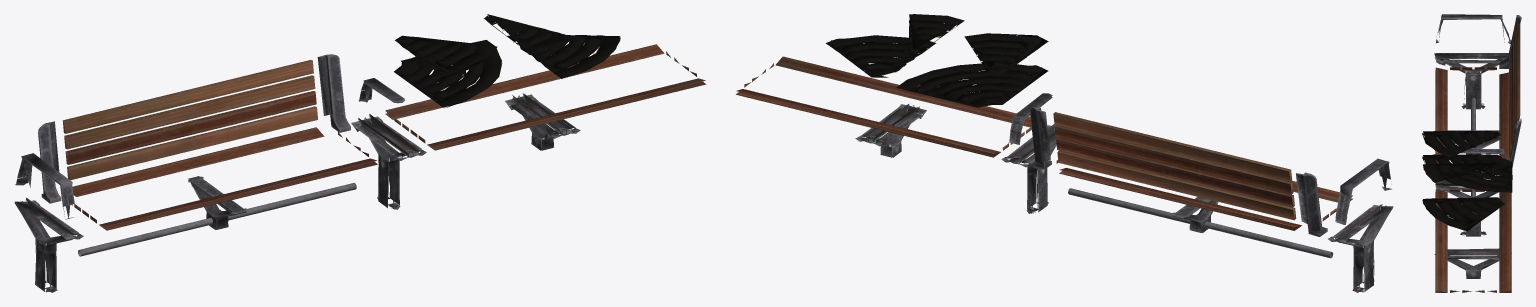
File: seating-low.glb
3 renders of one model, left to right at view 1: azimuth 30°, elevation 25°; view 2: azimuth 150°, elevation 25°; view 3: azimuth 270°, elevation 25°, orthographic. The views are drawn at different scales.
Visible parts, largest first — view 1: seat_back baked, seat baked, seat_bench baked, connector_90 baked, legs_double baked, legs_single baked, connector_45 baked, connector_60 baked, crossbar baked, back_support_l baked, suspended_support_02 baked, connector_30 baked (+4 smaller); view 2: seat_back baked, seat_bench baked, connector_90 baked, connector_60 baked, seat baked, legs_single baked, connector_45 baked, crossbar baked, legs_double baked, suspended_support_02 baked, connector_30 baked, back_support_r baked (+4 smaller); view 3: seat_bench baked, connector_90 baked, seat baked, connector_60 baked, legs_single baked, connector_45 baked, seat_back baked, suspended_support_02 baked, connector_30 baked, legs_double baked, arm_rest_01 baked, back_support_r baked (+4 smaller).
Part boxes in pixels (x1,y1,x2,y2): seat_back baked: [62, 60, 317, 180]; seat baked: [71, 127, 377, 230]; seat_bench baked: [385, 44, 706, 150]; connector_90 baked: [394, 40, 502, 107]; legs_double baked: [351, 114, 426, 209]; legs_single baked: [14, 197, 83, 292]; connector_45 baked: [395, 35, 497, 77]; connector_60 baked: [513, 35, 620, 78]; crossbar baked: [78, 183, 356, 256]; back_support_l baked: [317, 54, 350, 132]; suspended_support_02 baked: [505, 93, 580, 150]; connector_30 baked: [484, 14, 573, 54]; seat_back baked: [1053, 112, 1296, 220]; seat_bench baked: [736, 56, 1031, 157]; connector_90 baked: [896, 63, 1048, 107]; connector_60 baked: [825, 35, 936, 77]; seat baked: [1056, 160, 1352, 230]; legs_single baked: [1328, 204, 1393, 292]; connector_45 baked: [964, 33, 1048, 74]; crossbar baked: [1068, 188, 1333, 258]; legs_double baked: [1001, 124, 1057, 213]; suspended_support_02 baked: [855, 104, 926, 157]; connector_30 baked: [908, 14, 964, 54]; back_support_r baked: [1296, 172, 1327, 236]; seat_bench baked: [1435, 189, 1511, 292]; connector_90 baked: [1422, 154, 1512, 192]; seat baked: [1435, 67, 1509, 169]; connector_60 baked: [1422, 197, 1504, 231]; legs_single baked: [1434, 53, 1508, 109]; connector_45 baked: [1422, 130, 1500, 157]; seat_back baked: [1509, 23, 1520, 157]; suspended_support_02 baked: [1434, 248, 1511, 278]; connector_30 baked: [1423, 163, 1499, 182]; legs_double baked: [1435, 180, 1498, 236]; arm_rest_01 baked: [1436, 14, 1511, 43]; back_support_r baked: [1499, 15, 1521, 68].
Size of the model in its own units: 4.27 by 0.95 by 0.7521.
Materials: 5 (5 with a texture image).
